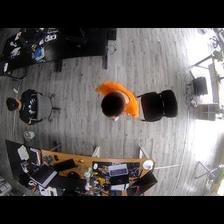normal: (93, 78, 144, 127), (3, 87, 60, 127)
